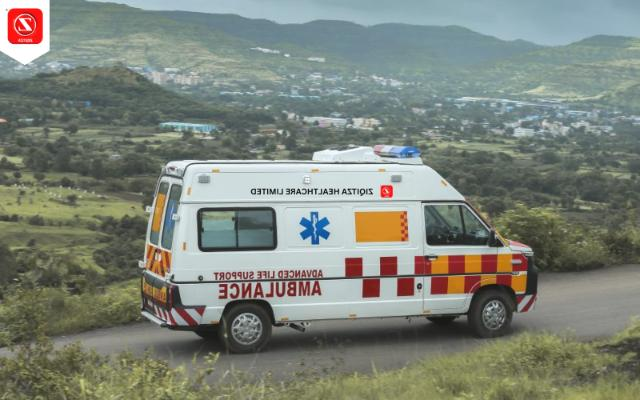ambulance: (141, 146, 537, 350)
